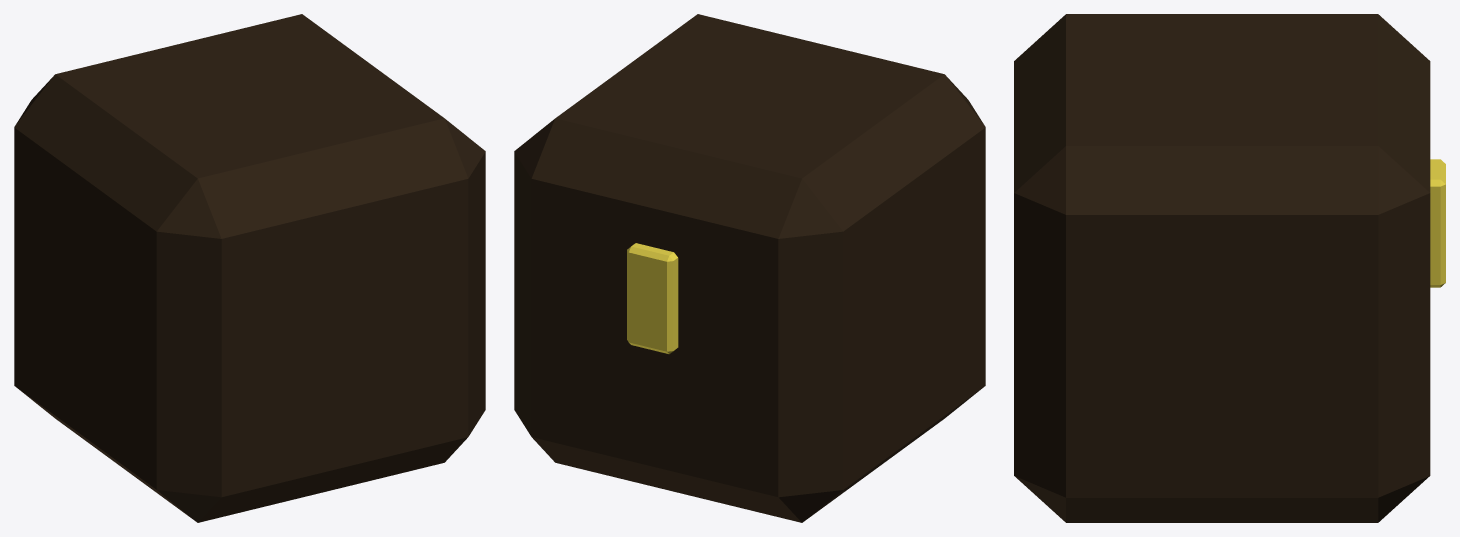
File: Chest.fbx
3 views of the same model, side by side, from view 1: azimuth 30°, elevation 25°; view 2: azimuth 150°, elevation 25°; view 3: azimuth 270°, elevation 25° (orthographic). The views are drawn at different scales.
Parts seen in each view (by area): view 1: ChestDoor, Chest; view 2: ChestDoor, Chest; view 3: ChestDoor, Chest.
Part boxes in pixels (x1,y1,x2,y2): ChestDoor: [14, 14, 485, 316]; Chest: [14, 205, 485, 522]; ChestDoor: [514, 14, 985, 316]; Chest: [514, 205, 985, 522]; ChestDoor: [1014, 14, 1445, 299]; Chest: [1014, 222, 1445, 522].
Bounding box in the file's own units: 0.8 × 0.8 × 0.83.
